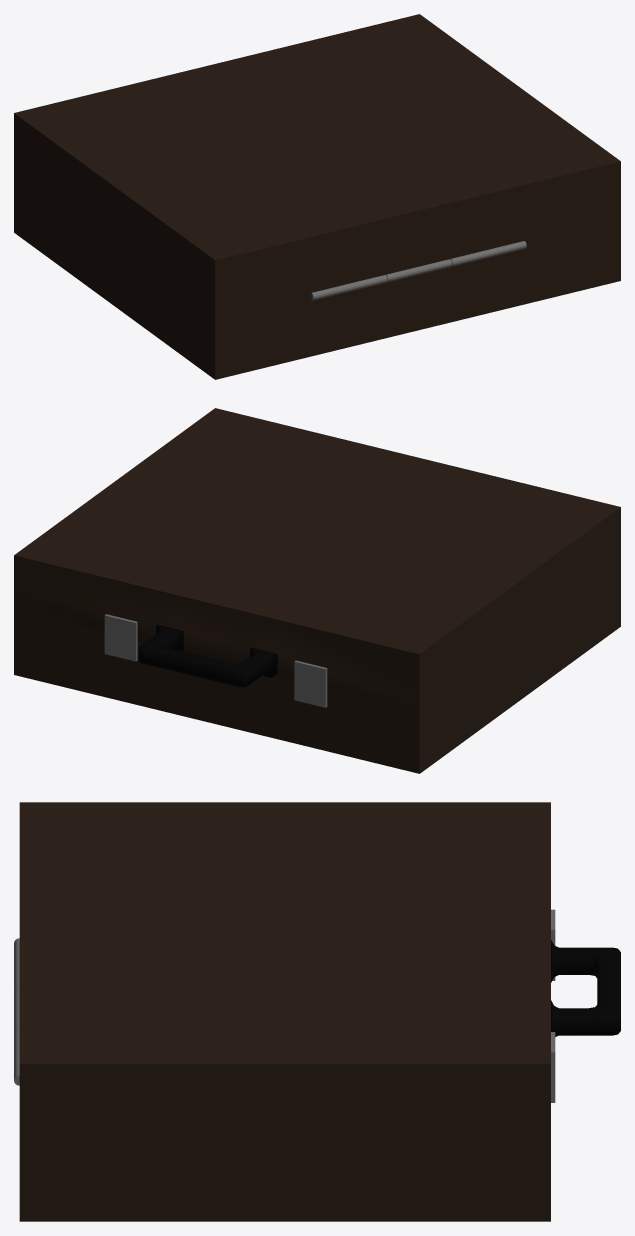
The model's file is SM_BriefcaseOpenable.fbx.
The picture shows the model from 3 angles, top to bottom: view 1: azimuth 30°, elevation 25°; view 2: azimuth 150°, elevation 25°; view 3: azimuth 270°, elevation 25°; orthographic projection. The views are drawn at different scales.
Parts seen in each view (by area): view 1: Cube, Cylinder; view 2: Cube, Cylinder; view 3: Cube, Cylinder.
Boxes of the visible parts, x1,y1,x2,y2 form: Cube: [14, 14, 620, 319]; Cylinder: [14, 173, 620, 379]; Cube: [14, 408, 620, 713]; Cylinder: [14, 567, 620, 773]; Cube: [19, 802, 620, 1142]; Cylinder: [14, 938, 550, 1221].
Bounding box in the file's own units: 35.5 × 10 × 34.84.
